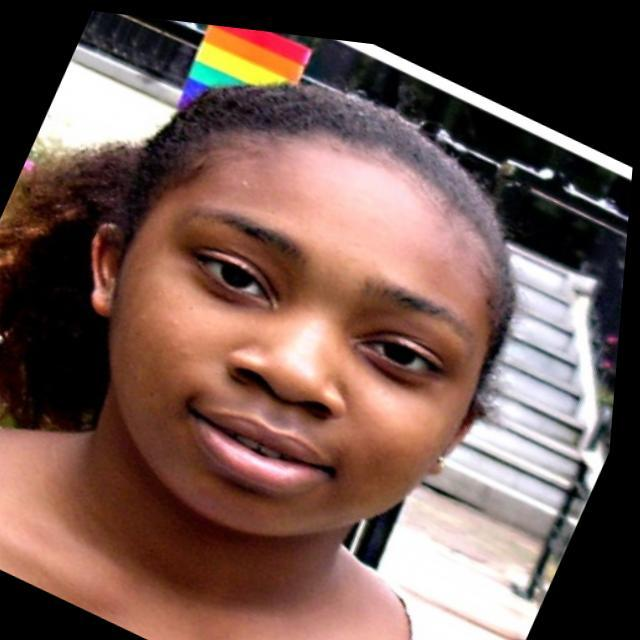Nonhelmet: (72, 36, 508, 555)
